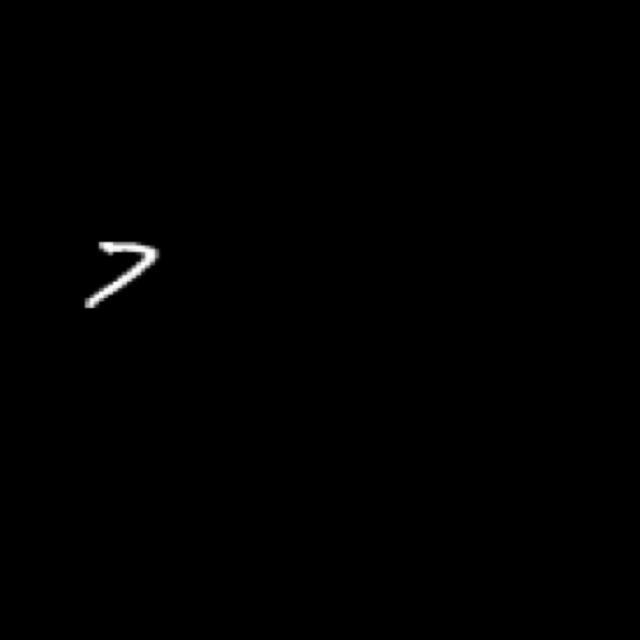seven -7-: (73, 231, 170, 318)
